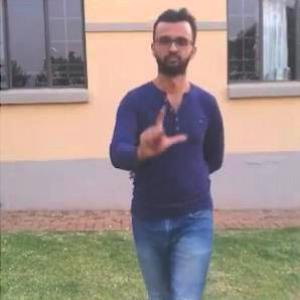land_hand: (128, 99, 191, 156)
